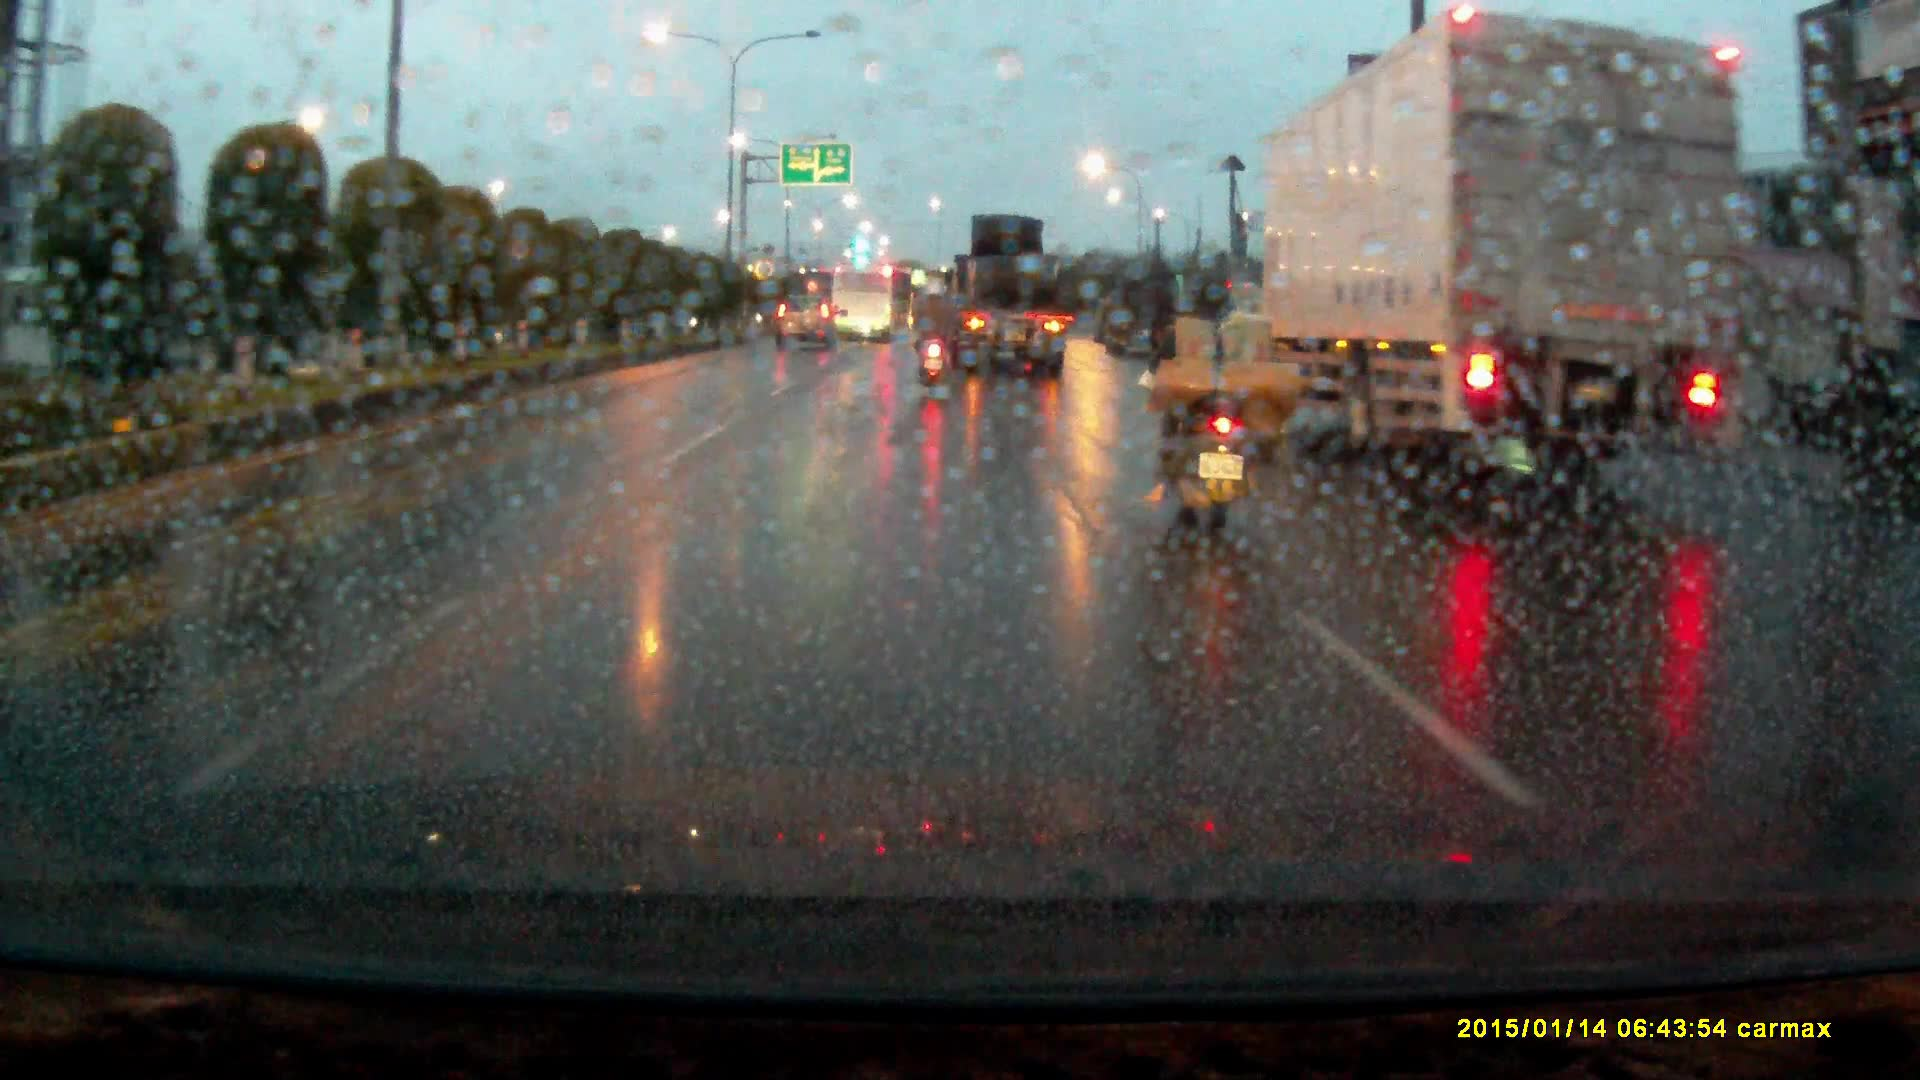rider: (1145, 253, 1309, 553), (913, 288, 955, 389)
vehicle: (1254, 19, 1753, 472), (935, 213, 1066, 375), (832, 266, 894, 341), (775, 285, 839, 346)
